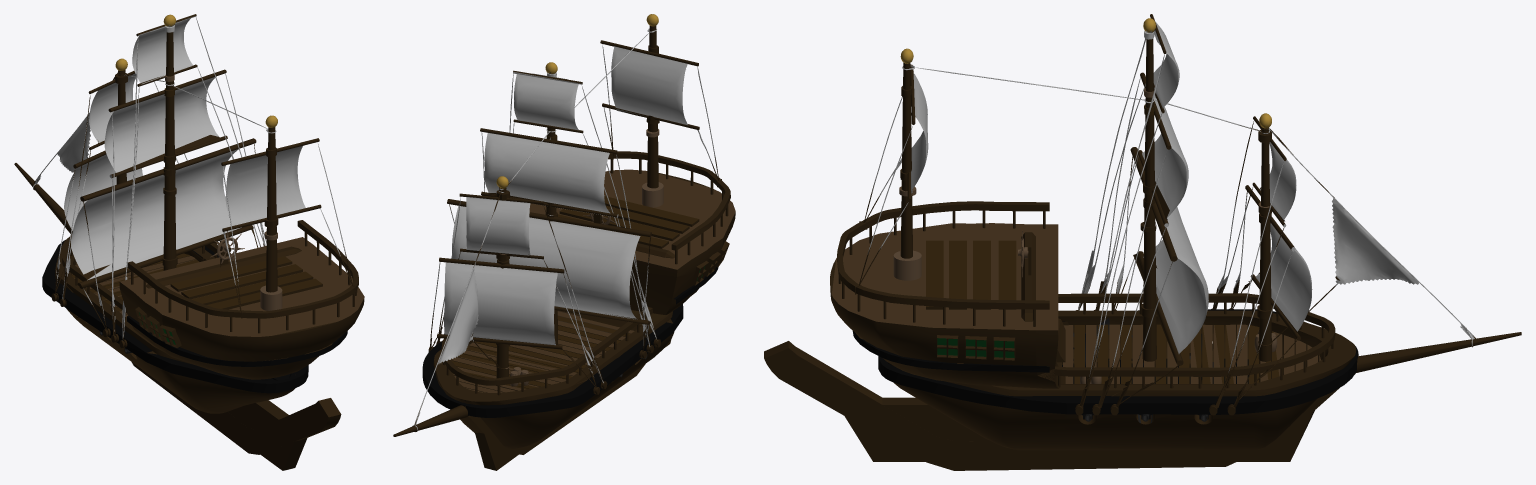
The model's file is mod_colorized_player_ship.fbx.
The picture shows the model from 3 angles, left to right: view 1: azimuth 30°, elevation 25°; view 2: azimuth 150°, elevation 25°; view 3: azimuth 270°, elevation 25°; orthographic projection. The views are drawn at different scales.
Parts seen in each view (by area): view 1: pCube3; view 2: pCube3; view 3: pCube3.
Boxes of the visible parts, left/top/right/bottom form: pCube3: left=14, top=14, right=364, bottom=470; pCube3: left=393, top=14, right=735, bottom=470; pCube3: left=764, top=14, right=1521, bottom=470.
Bounding box in the file's own units: 46.02 × 86.28 × 133.
